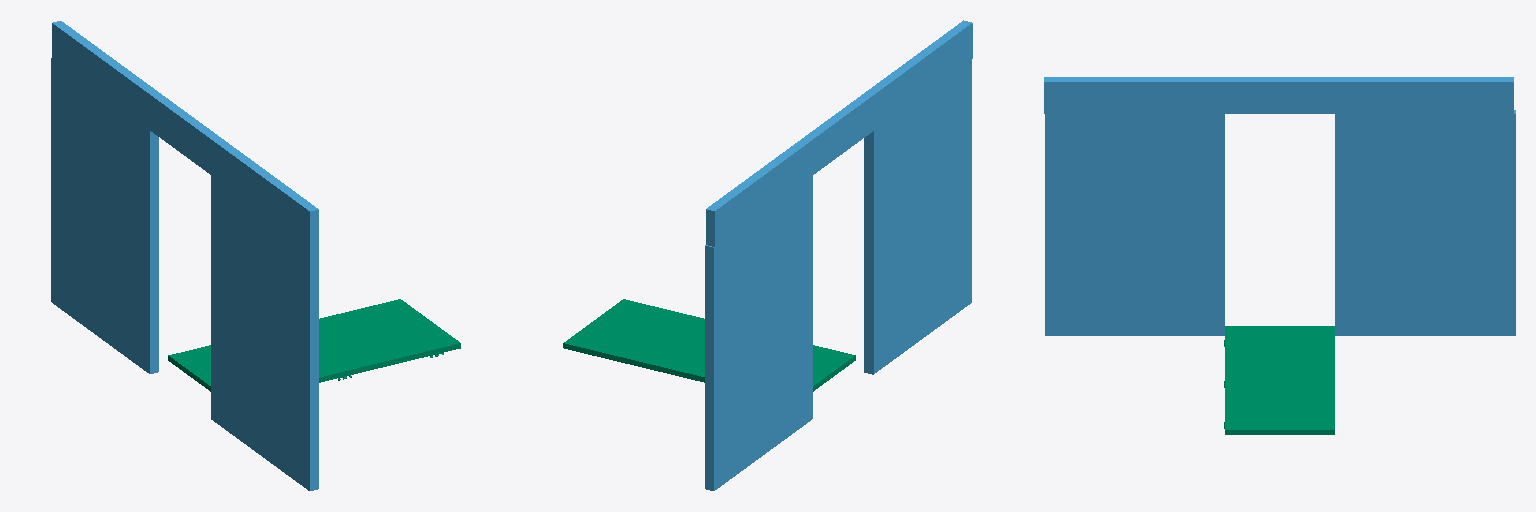
robot.urdf — door_test:
<robot name = 'door_test' xmlns:xacro="http://ros.org/wiki/xacro">
    <!-- <link name = 'world'/> -->
    
    <!-- <joint name = 'world2base' type = 'fixed'>
        <parent link = 'world'/>
        <child link = 'base_link'/>
    </joint> -->

    <link name = 'base_link'/>
        
    <joint name = 'base_joint' type = 'fixed'>
        <parent link = 'base_link'/>
        <origin xyz = '0 -0.5 0.0' rpy='0 0 0'/>
        <!-- if move y : the door will slide -->
        <child link = 'door_wall'/>
    </joint>

    <link name = 'door_wall'>
        <visual>
            <geometry>
                <box size='0.08 1.5 2.04'/>
            </geometry>
            <origin xyz = '-0.04 -0.68 1.02' rpy = '0 0 0'/>
        </visual>
        <visual>
            <geometry>
                <box size='0.08 1.5 2.04'/>
            </geometry>
            <origin xyz = '-0.04 1.74 1.02' rpy = '0 0 0'/>
        </visual>
        <visual>
            <geometry>
                <box size='0.08 3.91 0.3'/>
            </geometry>
            <origin xyz = '-0.04 0.522 2.19' rpy = '0 0 0'/>
        </visual>

        <collision name="side_1_:hinge_side">
            <geometry>
                <box size='0.08 1.5 2.04'/>
            </geometry>
            <origin xyz = '-0.04 -0.68 1.02' rpy = '0 0 0'/>
        </collision>
        <collision name="side_2">
            <geometry>
                <box size = '0.05029 0.06858 2.10820'/>
            </geometry>
            <origin xyz="-0.02 1.02 1.05" rpy="0 0 0"/>
        </collision>
        <collision>
            <geometry>
                <box size='0.08 1.5 2.04'/>
            </geometry>
            <origin xyz = '-0.04 1.78 1.02' rpy = '0 0 0'/>
        </collision>
        <collision name="top">
            <geometry>
                <box size='0.08 3.91 0.3'/>
            </geometry>
            <origin xyz = '-0.04 0.522 2.19' rpy = '0 0 0'/>
        </collision>
        <inertial>
            <origin xyz="0 0 0" rpy="0 0 0"/>
            <mass value="10000.0"/>
            <inertia ixx="0.0" ixy="0.0" ixz="0.0" iyy="0.0" iyz="0.0" izz="0.0"/>
        </inertial>
    </link>

    <joint name = 'door_hinge' type = 'revolute'>
        <axis xyz = '0 0 -1' rpy = '0 0 0'/>
        <origin xyz = '0.025 0.06858 0' rpy='0 3.14159 0'/>
        <limit lower = '0' upper = '1.57' effort='100' velocity="100.00"/>
        <dynamics damping="10.0" friction="0.0"/>
        <parent link = 'door_wall'/>
        <child link = 'door'/>
    </joint>

    <link name = 'door'>
        <visual>
            <geometry>
                <mesh filename = './meshes/door.dae'/>
            </geometry>
            <origin xyz = '-0.05 0 0' rpy = '-1.57 0 1.57'/>
            <color rgba = '0.5 0.5 0.5 1.0'/>
        </visual>
        <collision name="door_collision">
            <geometry>
                <mesh filename = './meshes/door.dae'/>
            </geometry>
            <origin xyz = '-0.05 0 0' rpy = '-1.57 0 1.57'/>
        </collision>
        <inertial>
            <origin xyz="0.4569 0.0349 1.016" rpy="0 0 0"/>
            <mass value="41.3256"/>
            <inertia ixx="14.2053" ixy="0.0004" ixz="0.0000" iyy="17.1997" iyz="0.0000" izz="3.0298"/>
        </inertial>
    </link>

    <joint name = 'door_handle' type = 'revolute'>
        <axis xyz = '-1 0 0' rpy = '0 0 0 '/>
        <parent link = 'door'/>
        <origin xyz = '0.035 0.75 -1.0'/>
        <limit lower = '0' upper = '0.5236' effort='100' velocity="1000.00"/>
        <dynamics damping="0.0" friction="0.0"/>
        <child link = 'door_handles'/>
    </joint>

    <link name = 'door_handles'>
        <visual>
            <geometry>
                <mesh filename = './meshes/door_handle.dae' scale='1.0 0.75 0.75'/>
            </geometry>
            <origin xyz = '0 0 0' rpy = '0 3.141592 1.57'/>
            <color rgba = '0.55 0.5 0.5 1.0'/>
        </visual>
        <visual>
            <geometry>
                <mesh filename = './meshes/door_handle.dae' scale='1.0 0.75 0.75'/>
            </geometry>
            <origin xyz = '0.04 0 0' rpy = '0 0 -1.57'/>
             <color rgba = '0.5 0.5 0.5 1.0'/>
        </visual>
        <collision name="door_handles_collision">
            <geometry>
                <mesh filename="./meshes/door_handle_collision.dae" scale='1.0 0.75 0.75'/>
            </geometry>
            <origin xyz = '0 0 0' rpy = '0 3.141592 1.57'/>
        </collision>
        <collision name="door_handles_collision">
            <geometry>
                <mesh filename="./meshes/door_handle_collision.dae" scale='1.0 0.75 0.75'/>
            </geometry>
            <origin xyz = '0.045 0 0' rpy = '0 0 -1.57'/>
        </collision>
        <inertial>
            <origin xyz="0.0 0.0 0.0" rpy="3.14159 0 1.57"/>
            <mass value="1.0"/>
            <!-- <inertia ixx="14.2053" ixy="0.0004" ixz="0.0000" iyy="17.1997" iyz="0.0000" izz="3.0298"/> -->
        </inertial>
    </link>
    
    <joint name = 'handle2latch' type = 'fixed'>
        <parent link = 'door_handles'/>
        <child link = 'door_latch'/>
    </joint>

    <link name='door_latch'>
        <collision>
            <geometry>
                <box size='0.001 0.5 0.01'/>
            </geometry>
            <origin xyz = '-0.0178 0.2 -0.9' rpy = '0 0 0'/>
        </collision>
    </link>
    <!-- <gazebo reference="world">
        <material>Gazebo/Red</material>
    </gazebo> -->

</robot>

--- What the picture shows (computed from the rendered views, not written in the file) ---
Views: 3 orthographic renders of the robot side by side, from view 1: azimuth 30°, elevation 25°; view 2: azimuth 150°, elevation 25°; view 3: azimuth 270°, elevation 25°.
Model door_test with 5 links and 4 joints (2 revolute, 2 fixed), rooted at base_link, posed all joints at 0.
Links seen in each view (by area): view 1: door_wall, door; view 2: door_wall, door; view 3: door_wall, door.
Boxes of the visible links, x1=… form: door_wall: x1=51, y1=21, x2=318, y2=490; door: x1=168, y1=299, x2=460, y2=391; door_wall: x1=705, y1=20, x2=972, y2=490; door: x1=563, y1=299, x2=855, y2=391; door_wall: x1=1044, y1=77, x2=1515, y2=335; door: x1=1224, y1=326, x2=1334, y2=434.
Size in the robot's own frame: 2.19 by 3.92 by 2.34 metres.
1 mesh visuals loaded from 2 distinct referenced files (1 Collada DAE); not drawn: 2 (reference not matched to a file when rendering).